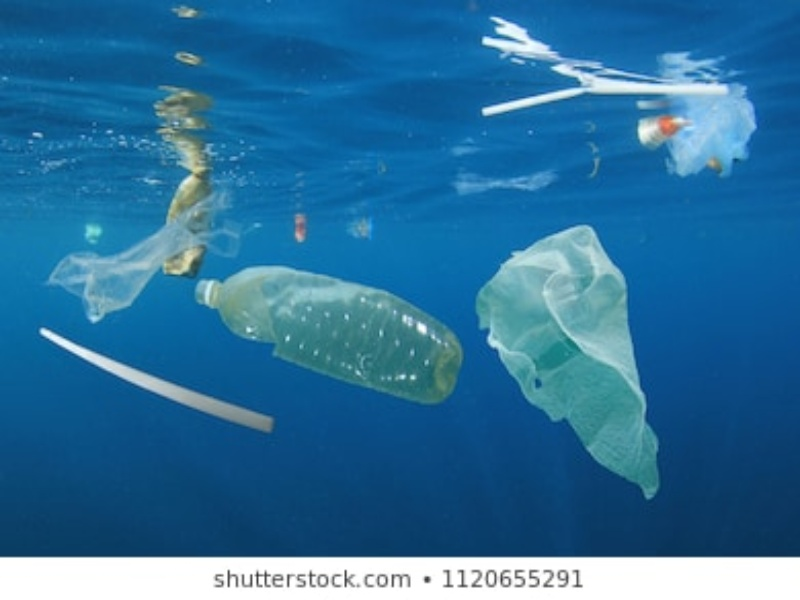plastic-bag: (472, 223, 663, 502), (42, 184, 241, 324)
plastic-bottle: (191, 263, 464, 404)
straw: (38, 322, 278, 435), (476, 80, 726, 116)
